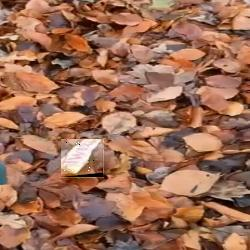plastic: (62, 140, 106, 180)
